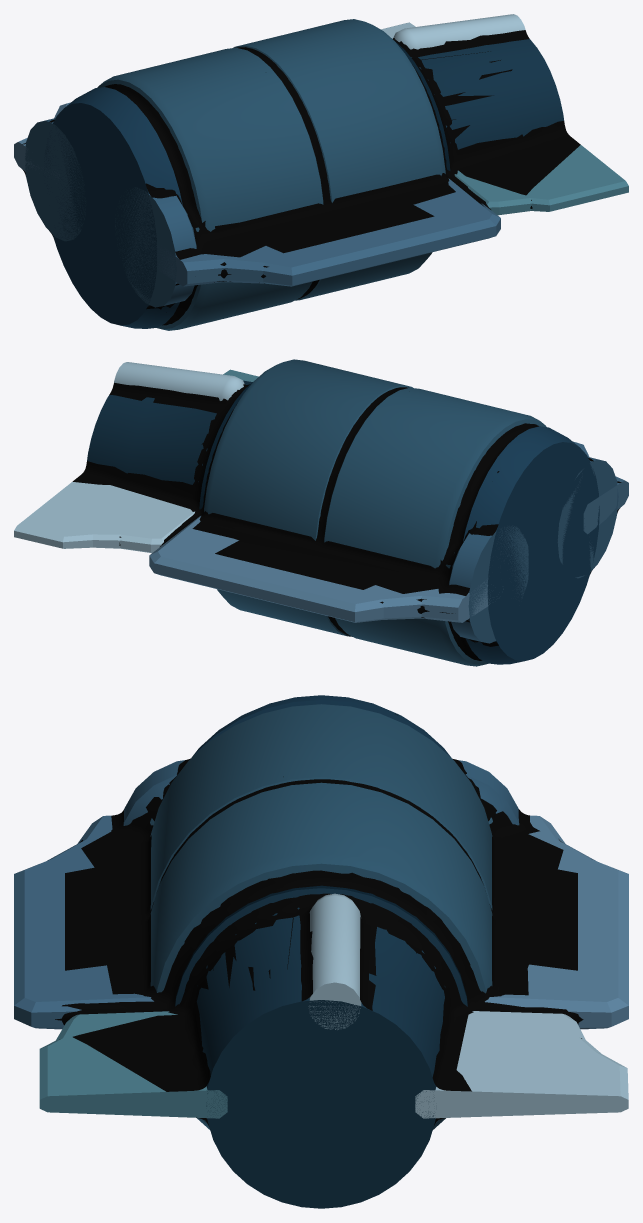
Rendered from newsh-caret-200.glb.
3 renders of one model, top to bottom at view 1: azimuth 30°, elevation 25°; view 2: azimuth 150°, elevation 25°; view 3: azimuth 270°, elevation 25°, orthographic. The views are drawn at different scales.
Visible parts, largest first — view 1: newsh-caret-200, newsh-caret-200_outline; view 2: newsh-caret-200, newsh-caret-200_outline; view 3: newsh-caret-200, newsh-caret-200_outline.
Part boxes in pixels (box(x1,y1,x2,y2)): newsh-caret-200: box(14, 14, 628, 330); newsh-caret-200_outline: box(22, 30, 580, 325); newsh-caret-200: box(14, 359, 628, 666); newsh-caret-200_outline: box(72, 382, 621, 660); newsh-caret-200: box(14, 695, 628, 1208); newsh-caret-200_outline: box(55, 714, 589, 1126).
Bounding box in the file's own units: 2 × 1.08 × 1.91.
